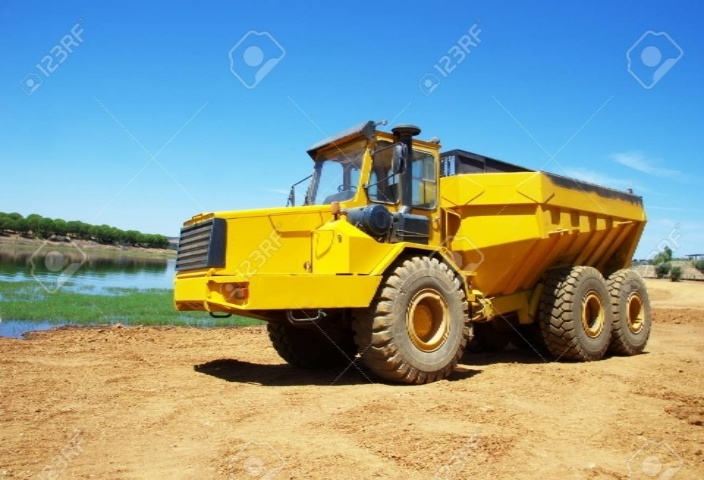truck: (164, 118, 654, 399)
